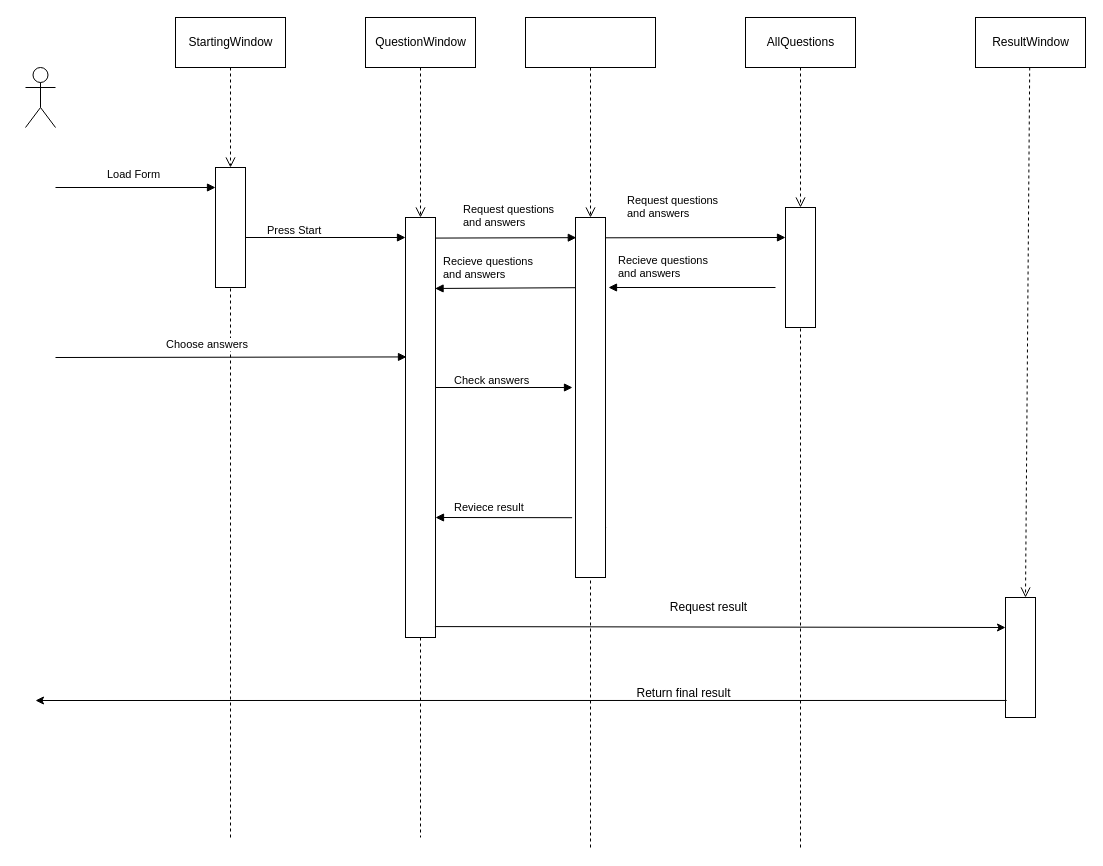
This 1103x866 diagram has some shape labels left out. The centre of each missing label's shape, as x and y in pixels:
"ApplicationViewModel" goes at pixel 590 42.
"Студент" goes at pixel 40 97.
